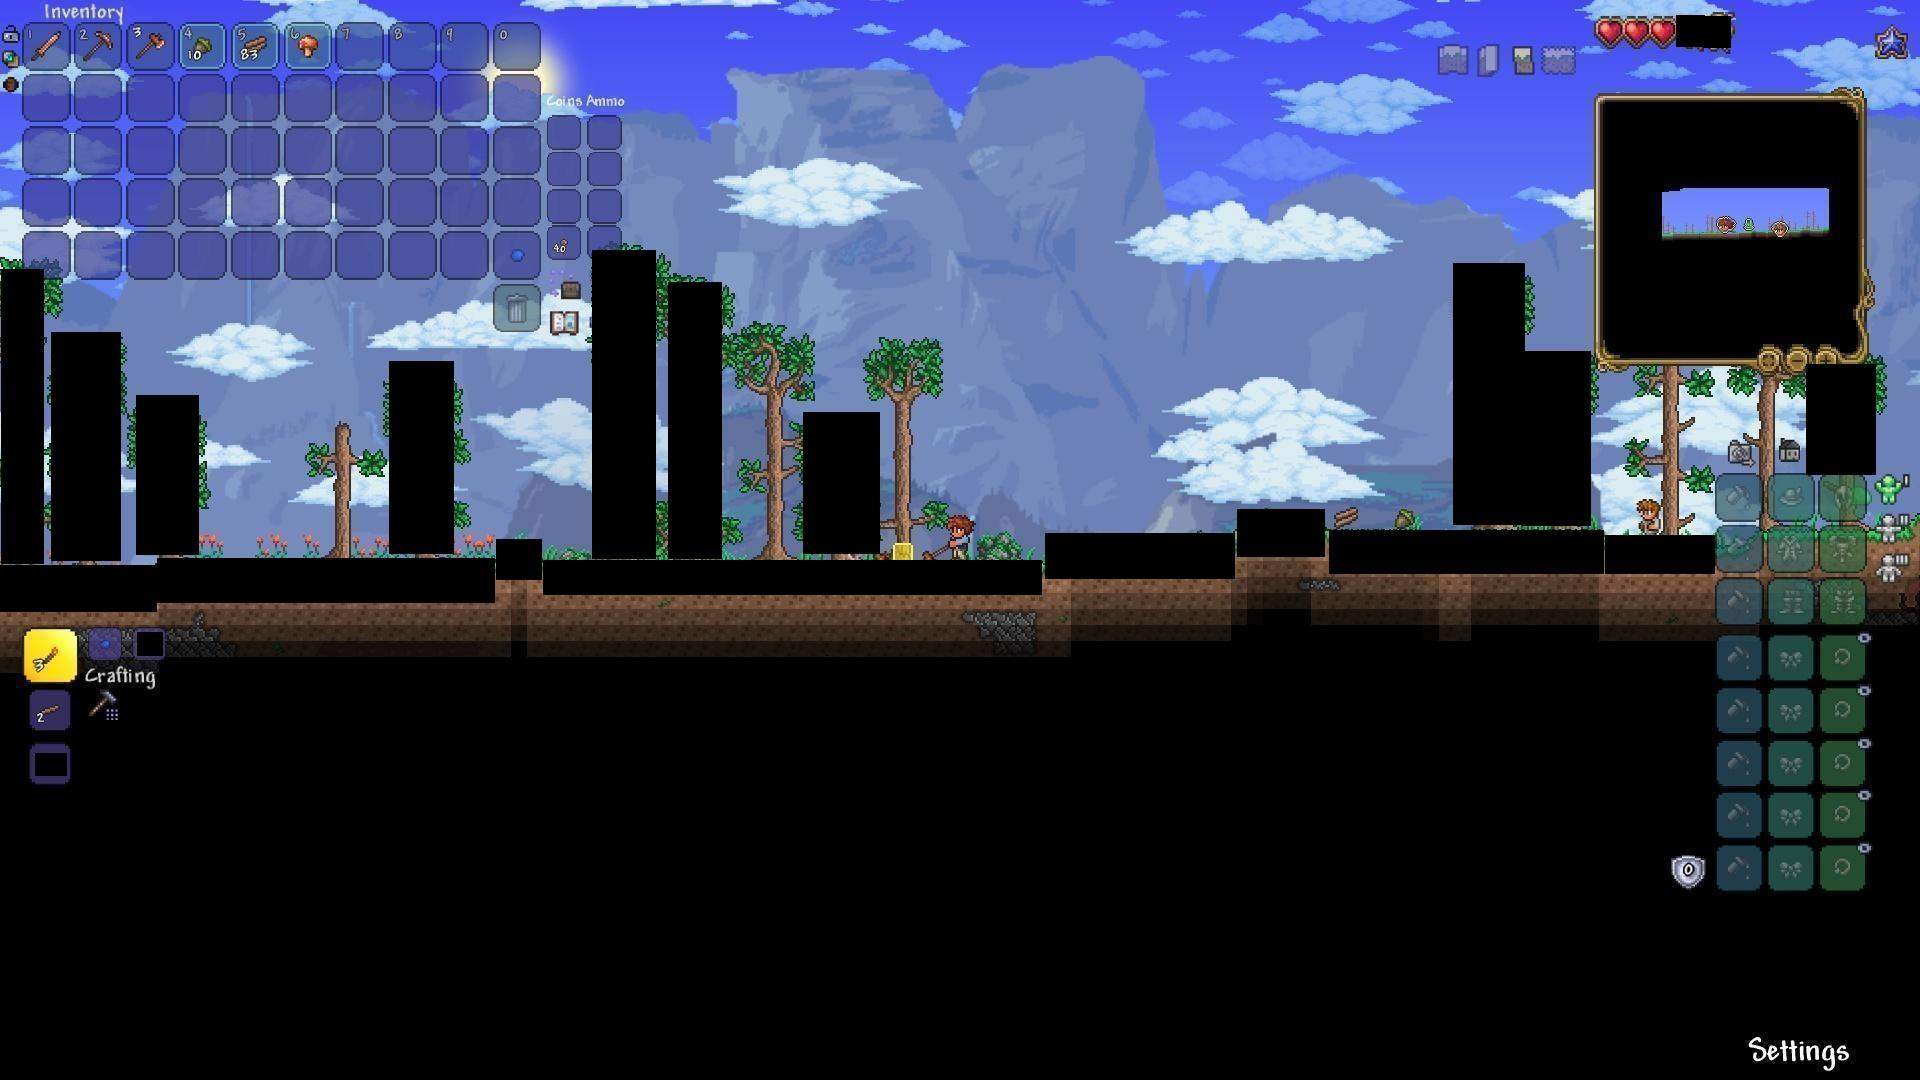heart: (1596, 15, 1629, 45), (1648, 17, 1676, 47), (1625, 17, 1652, 46)
tree: (738, 316, 806, 559), (878, 326, 935, 543), (1734, 367, 1803, 477), (1643, 363, 1687, 530), (314, 419, 363, 556)
wood: (1331, 501, 1362, 531), (240, 32, 272, 61)
